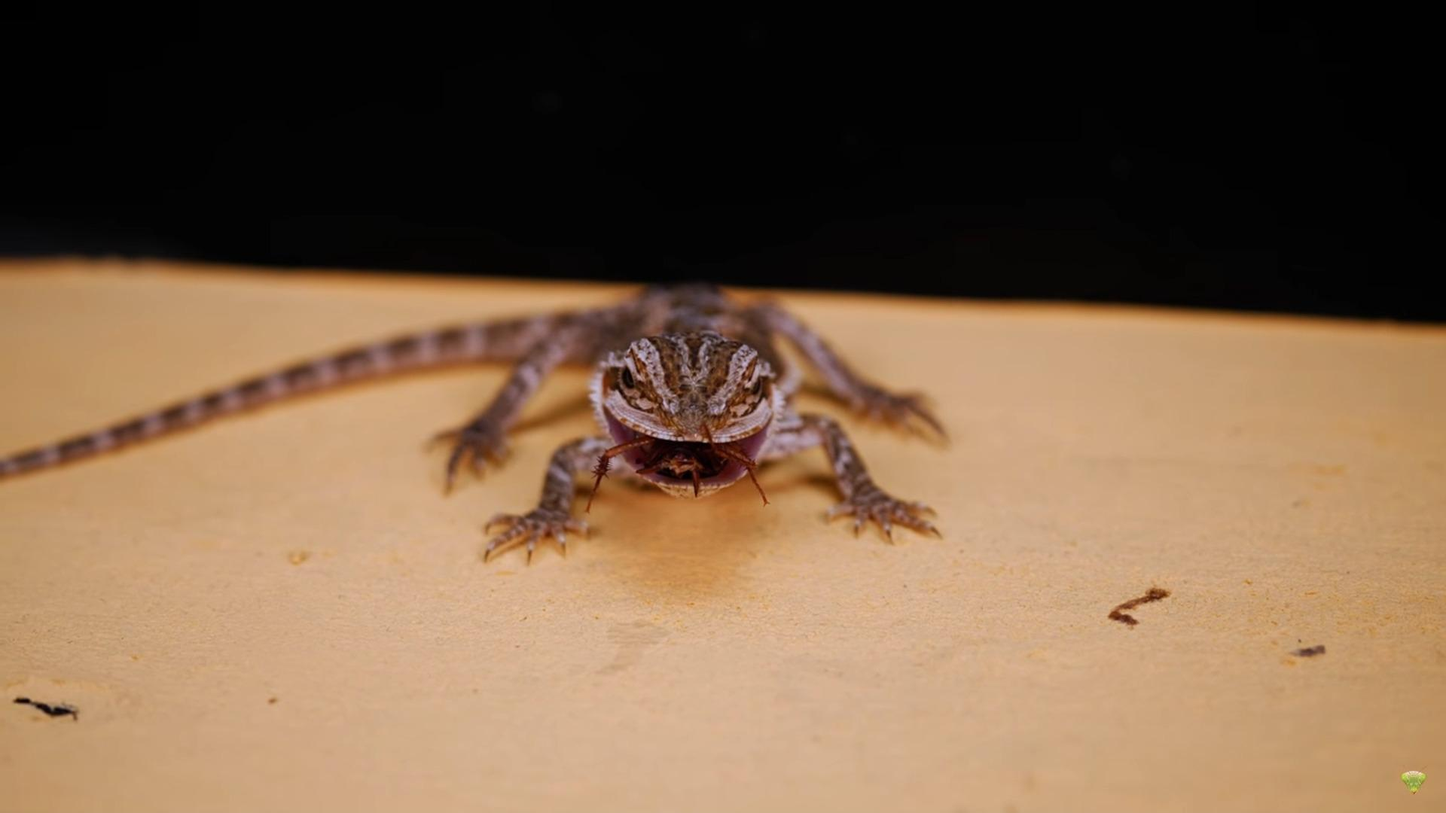cockroach: (583, 436, 773, 531)
lizard: (453, 325, 949, 589)
